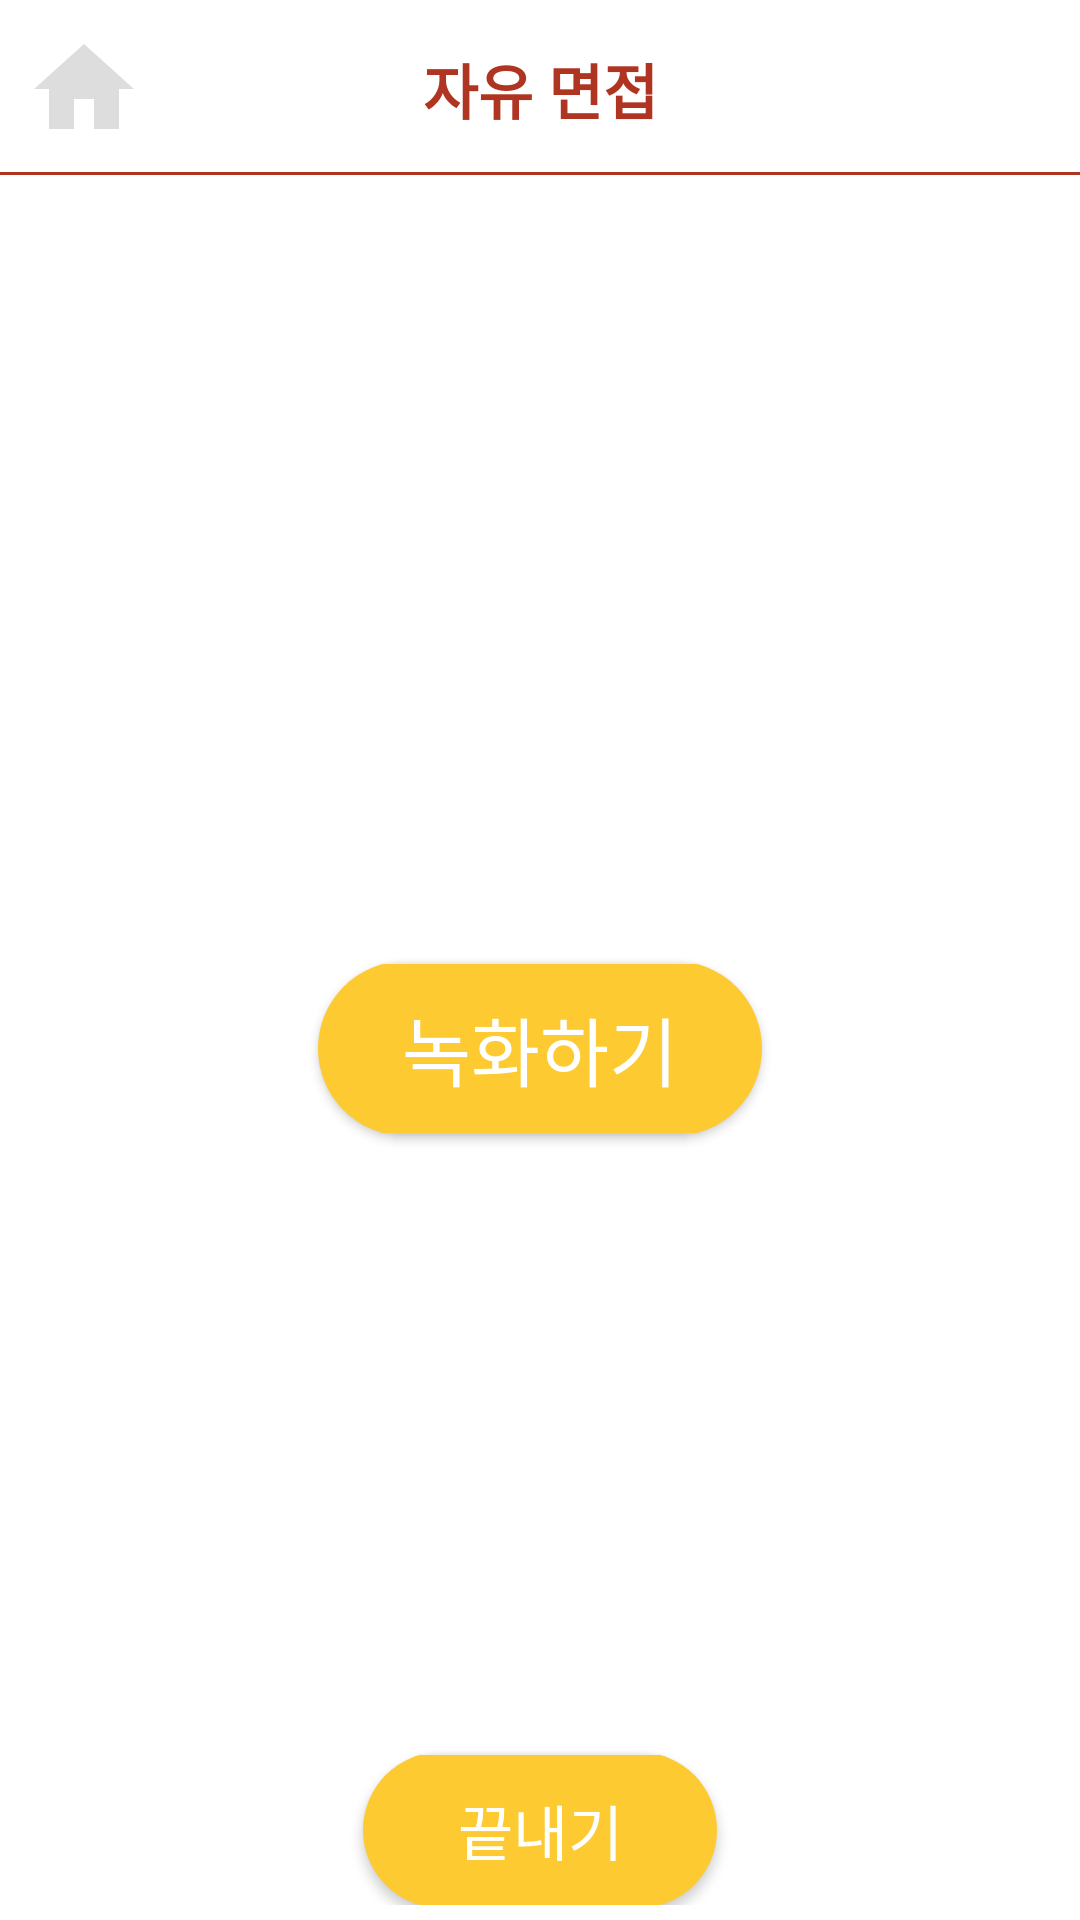

Icon click points for this 1080x1920 phone screenshot, format (x,y):
home: (84,87)
